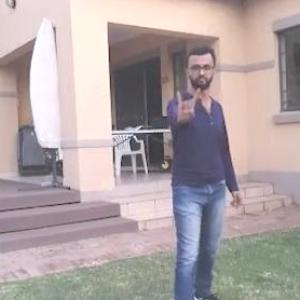takeoff-hand: (167, 81, 202, 124)
